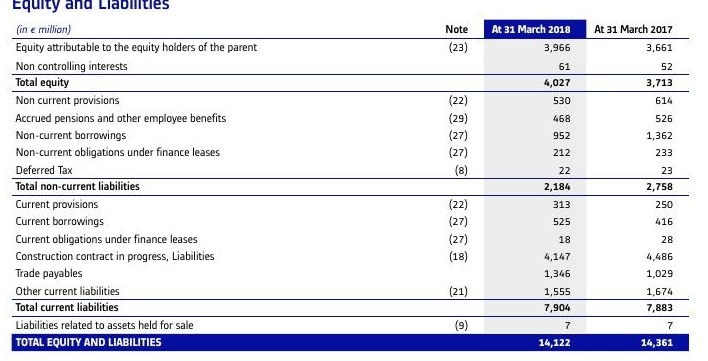table: (0, 0, 708, 361)
